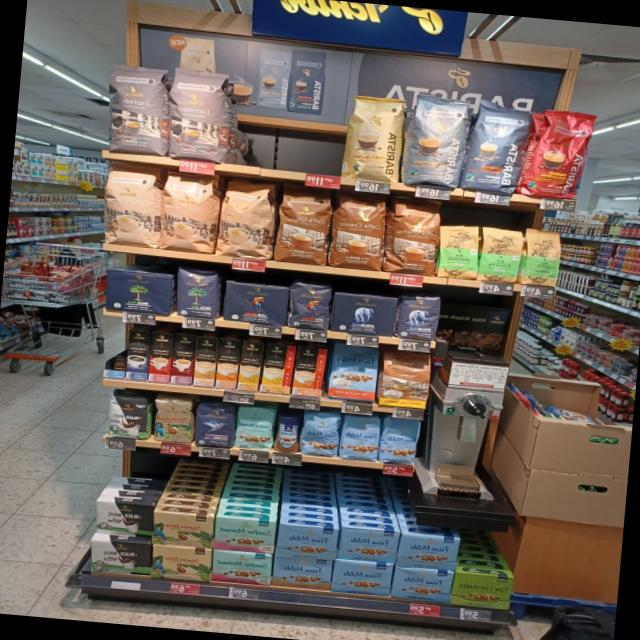AB Bohne: (394, 292, 444, 342)
AB Gemahlen: (328, 290, 398, 336)
Athiopien Bohne: (520, 226, 564, 288)
Athiopien Gemahlen: (476, 226, 523, 284), (436, 222, 481, 280)
BM Bohne: (172, 265, 222, 320)
BM Gemahlen: (102, 268, 174, 316)
BW Bohne: (104, 391, 150, 440)
BW Gemahlen: (86, 538, 152, 576), (94, 498, 154, 538)
Barista CB: (338, 92, 406, 181)
Barista CC: (398, 94, 472, 188)
Barista Espresso: (460, 103, 531, 195)
Barista Kolumbien: (516, 104, 598, 200)
C Fino Bohne: (192, 399, 236, 448)
CC Mild: (214, 177, 277, 261), (157, 170, 220, 254), (99, 163, 161, 247)
CC Vollmundig: (377, 349, 431, 410)
CC Vollmundig 36 Pads: (383, 197, 442, 277), (273, 186, 332, 266), (328, 192, 388, 270)
Colombia BB Bohne: (150, 395, 197, 443)
Colombia BB Gemahlen: (150, 510, 213, 549), (149, 544, 212, 582)
Empty Shelf: (225, 78, 343, 174), (104, 328, 128, 371)
Espresso Aromatisch: (165, 67, 236, 163), (103, 62, 170, 156)
FM 36 Pads: (328, 343, 380, 403)
FM Bohne: (378, 416, 422, 466), (298, 410, 342, 458), (338, 412, 380, 462)
FM Gemahlen: (329, 558, 393, 598), (336, 524, 399, 564), (396, 532, 461, 570), (274, 522, 339, 560), (390, 566, 452, 604), (270, 556, 332, 590)
FM Instant: (272, 412, 300, 453)
Herzhatfe Mundig: (449, 570, 514, 610)
LG Bohne: (284, 279, 334, 332)
LG Gemahlen: (220, 280, 290, 328)
SM Bohne: (232, 404, 278, 452)
SM Gemahlen: (212, 515, 274, 554), (209, 549, 272, 586)
Simo CCMild: (260, 342, 295, 393)
Simo CCMild bigpack: (237, 340, 263, 392)
Simo CCVollmundig: (291, 346, 327, 396)
Simo CCVollmundig bigpack: (214, 338, 240, 388)
Simo Decaff: (192, 336, 218, 386)
Simo Es Brazil: (148, 332, 172, 382)
Simo Es Caramel: (170, 332, 196, 384)
Simo Es Kraft: (125, 329, 150, 380)
